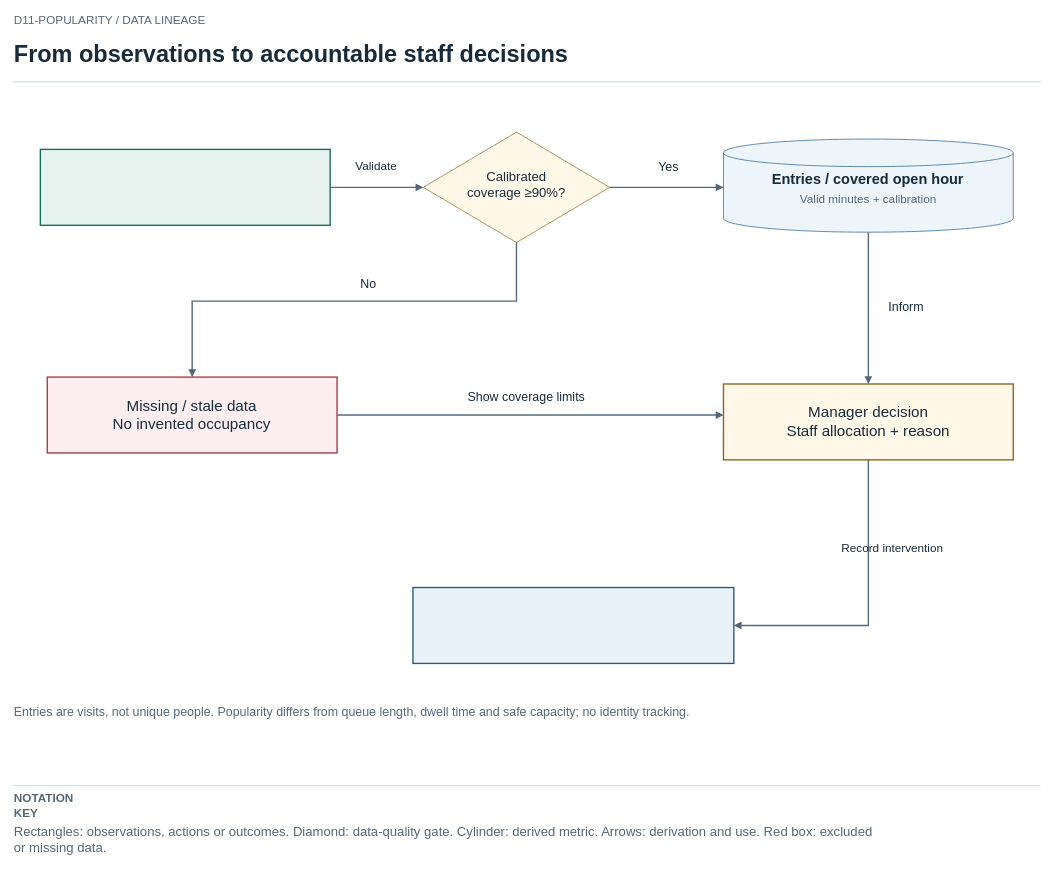
Image size: 1054x869. Some labels were removed from this diagram. Each missing label, with the centre of its shape:
"Bidirectional entry observations Manual tally · time · coverage" belongs at point (185, 187).
"Outcome comparison Seasonality and intervention recorded" belongs at point (573, 625).
